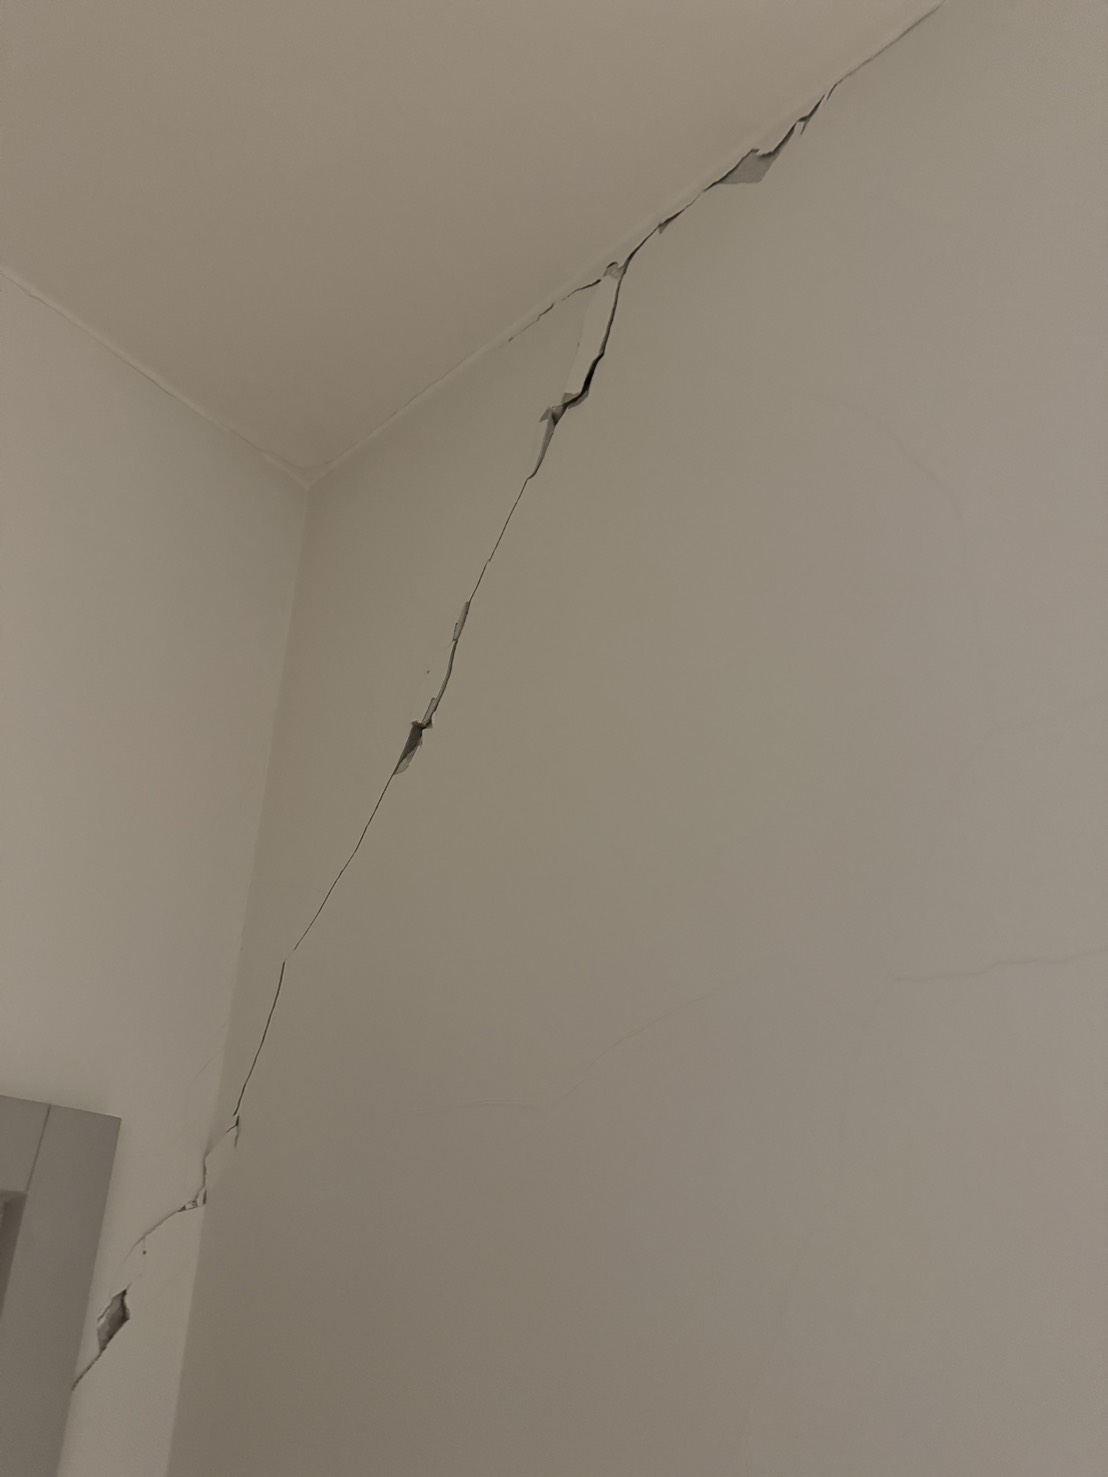Medium: (353, 310, 720, 784)
